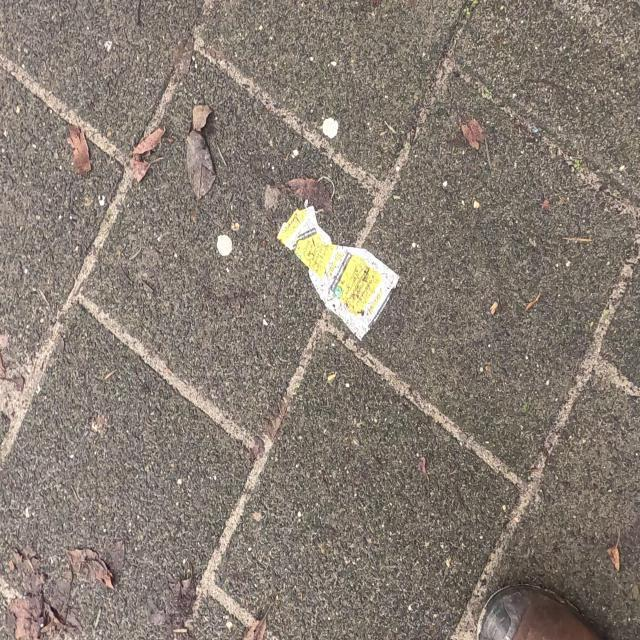Paper: (242, 296, 366, 441)
